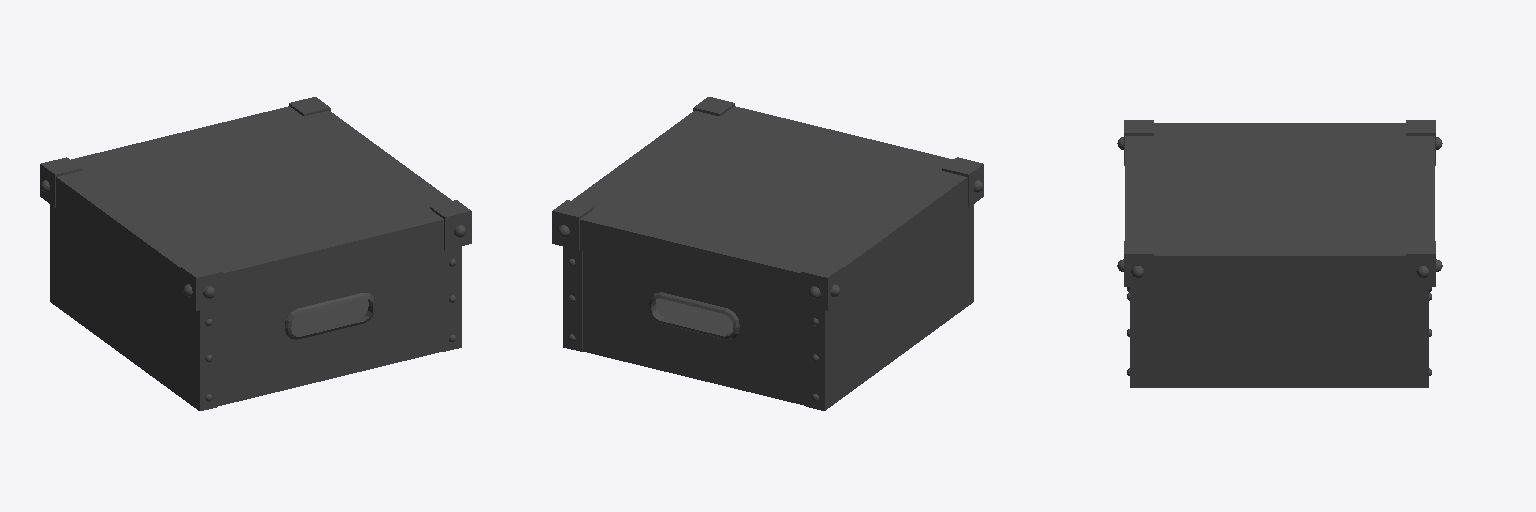
File: boxblack.obj
3 views of the same model, side by side, from view 1: azimuth 30°, elevation 25°; view 2: azimuth 150°, elevation 25°; view 3: azimuth 270°, elevation 25° (orthographic).
Parts seen in each view (by area): view 1: w_cg_taobao_com__________02; view 2: w_cg_taobao_com__________02; view 3: w_cg_taobao_com__________02.
Boxes of the visible parts, box(x1,y1,x2,y2) form: w_cg_taobao_com__________02: box(40, 97, 471, 410); w_cg_taobao_com__________02: box(552, 97, 983, 410); w_cg_taobao_com__________02: box(1117, 120, 1442, 387).
Bounding box in the file's own units: 13.64 × 6.25 × 13.41.